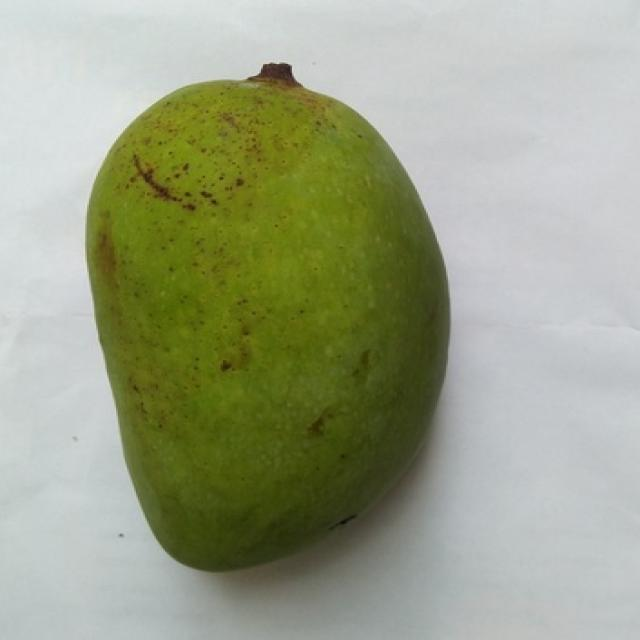Mango: (87, 65, 448, 570)
